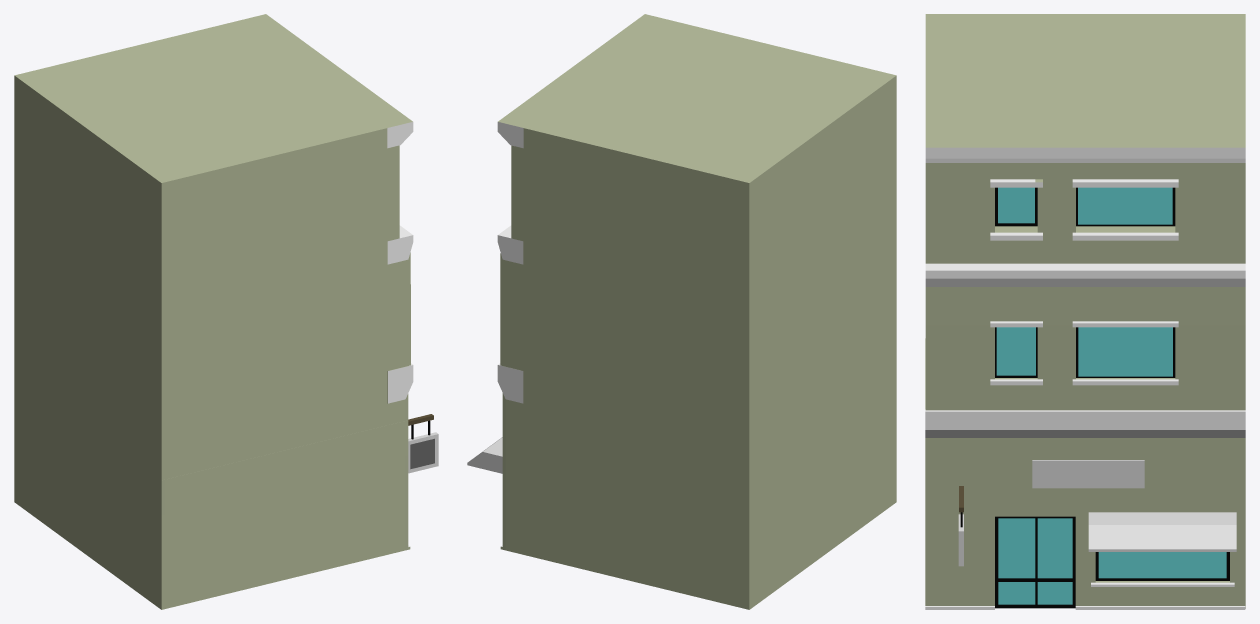
The model's file is Small Shop5.fbx.
3 views of the same model, side by side, from view 1: azimuth 30°, elevation 25°; view 2: azimuth 150°, elevation 25°; view 3: azimuth 270°, elevation 25° (orthographic). The views are drawn at different scales.
Parts seen in each view (by area): view 1: Cube, Cube.023; view 2: Cube, Cube.002; view 3: Cube, Cube.002, Cube.001, Cube.023.
Boxes of the visible parts, left/top/right/bottom form: Cube: left=14, top=14, right=413, bottom=609; Cube.023: left=408, top=414, right=438, bottom=473; Cube: left=497, top=14, right=896, bottom=609; Cube.002: left=467, top=437, right=502, bottom=473; Cube: left=925, top=14, right=1245, bottom=609; Cube.002: left=1088, top=512, right=1236, bottom=551; Cube.001: left=1032, top=460, right=1144, bottom=488; Cube.023: left=958, top=486, right=963, bottom=566.
Size of the model in its own units: 2418 by 3375 by 2114.
